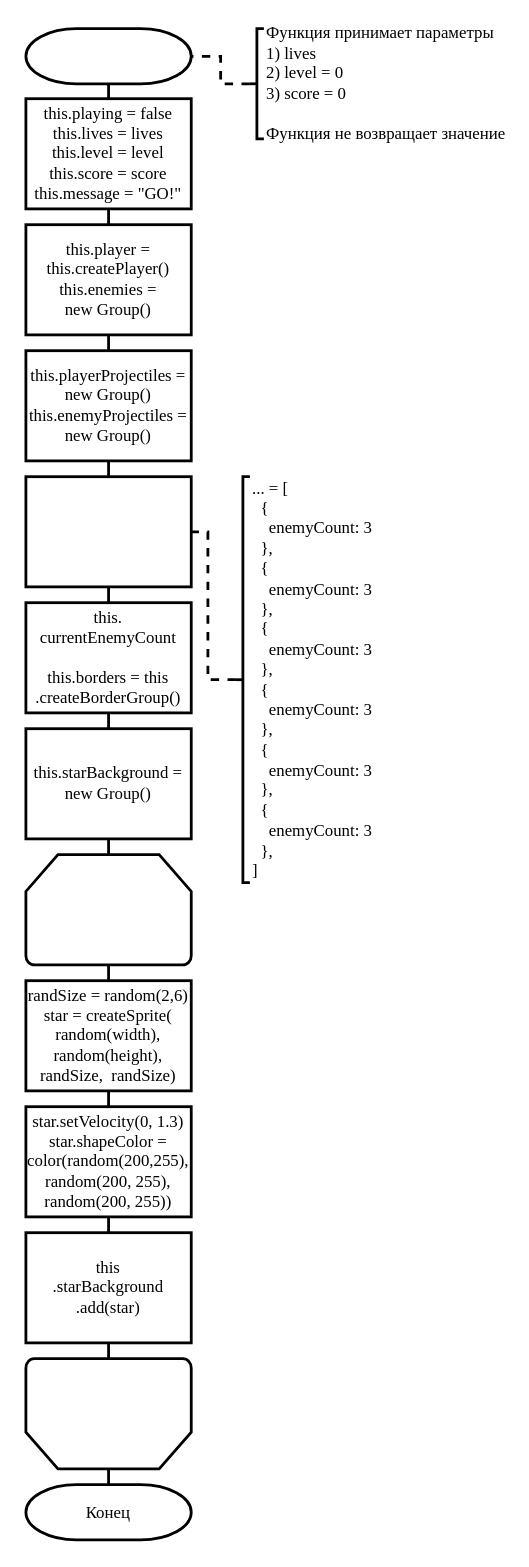
The diagram is 529 pixels wide and 1567 high, and some of its shapes have lost their labels. Here are the shapes that lost their labels. From the top down, the centre of each, then its label:
At point 108,56: "GameState ::constructor()".
At point 108,531: "this.levelContents = ...".
At point 108,909: "i = 0 i < 20".
At point 108,1413: "i++".
